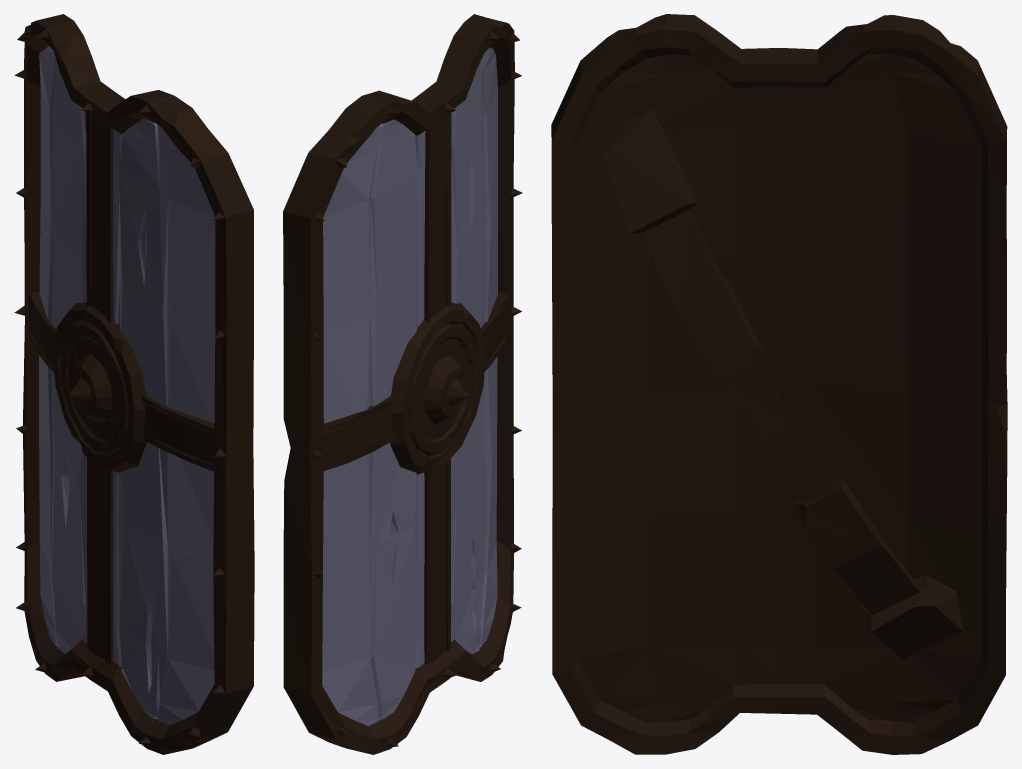
The model's file is SFFA_Shield_Wooden_003.fbx.
3 renders of one model, left to right at view 1: azimuth 30°, elevation 25°; view 2: azimuth 150°, elevation 25°; view 3: azimuth 270°, elevation 25°, orthographic. The views are drawn at different scales.
Visible parts, largest first — view 1: SFFA_Shield_Wooden_003; view 2: SFFA_Shield_Wooden_003; view 3: SFFA_Shield_Wooden_003.
Boxes of the visible parts, x1,y1,x2,y2 form: SFFA_Shield_Wooden_003: (14,14,254,754); SFFA_Shield_Wooden_003: (283,14,522,754); SFFA_Shield_Wooden_003: (551,14,1007,754).
Bounding box in the file's own units: 28.16 × 118 × 67.34.
